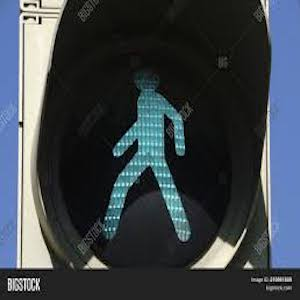green: (100, 64, 207, 242)
